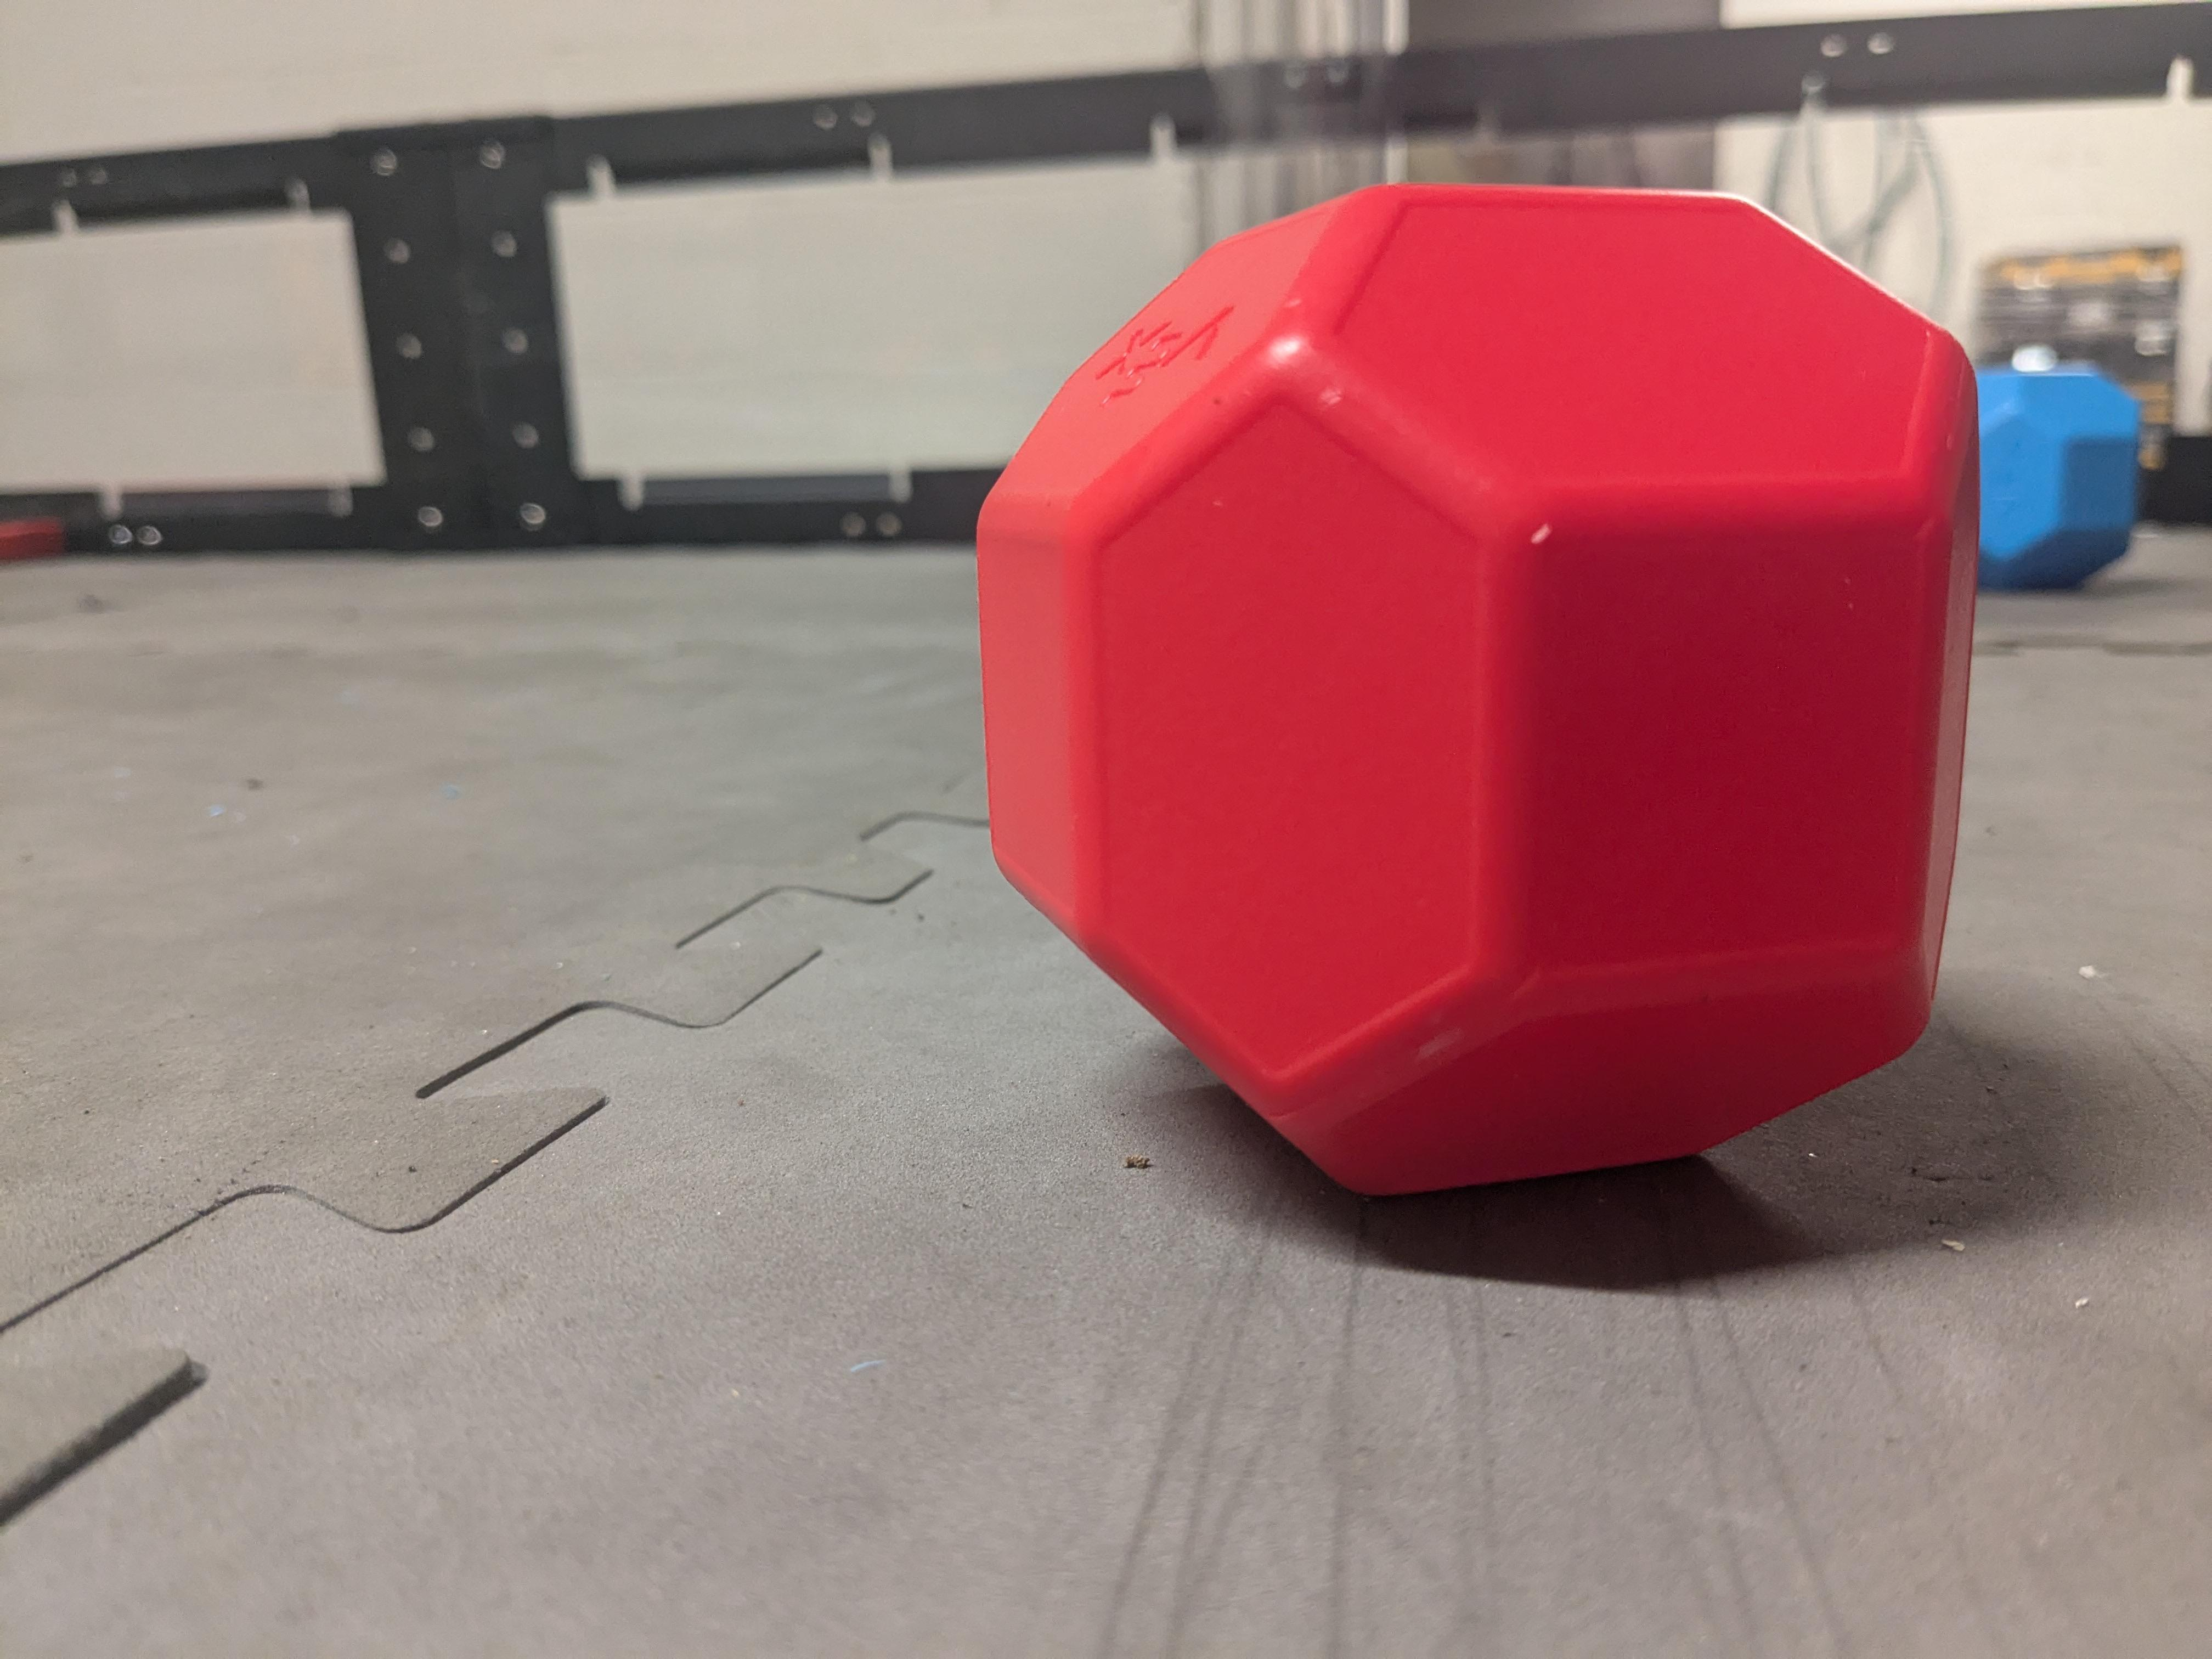Vex-Pieces-RED: (974, 178, 1987, 1204)
